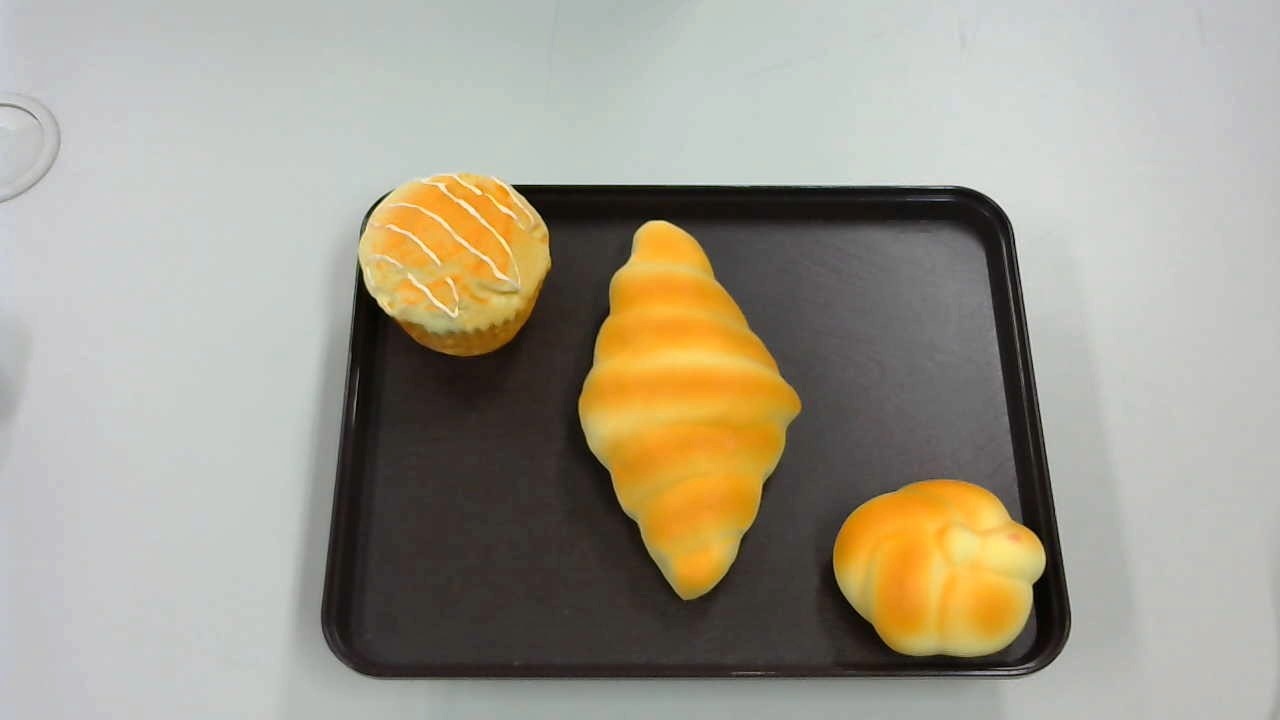croissant: (578, 219, 802, 604), (832, 479, 1047, 652)
cupcake: (357, 168, 552, 357)
